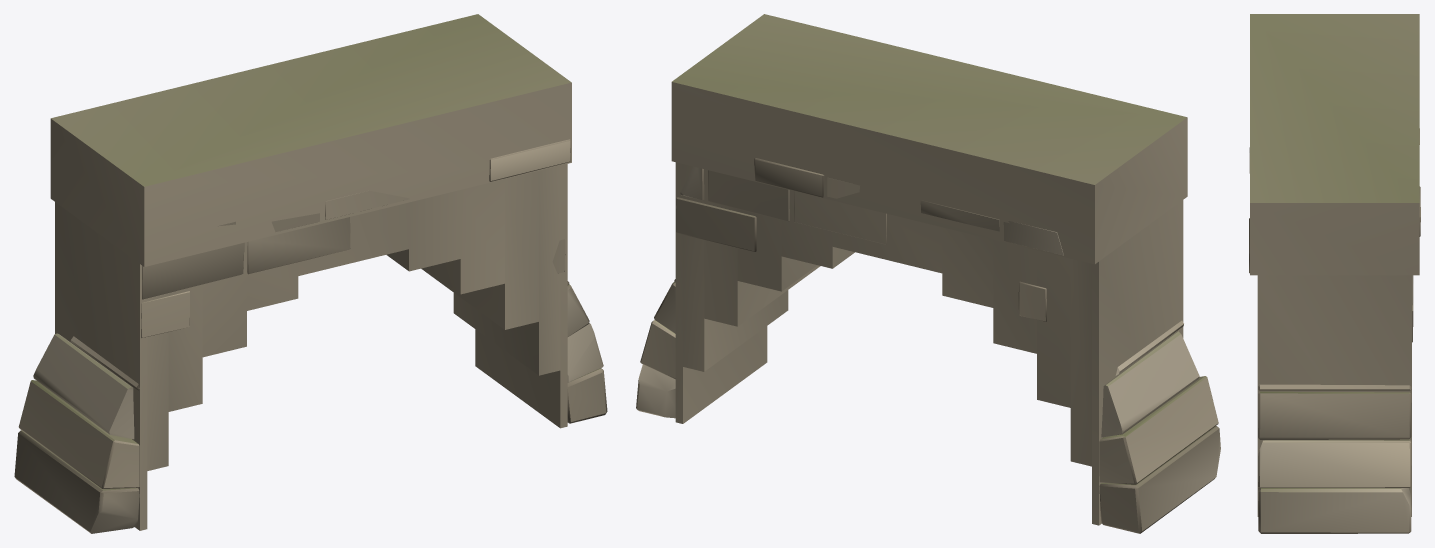
File: aqueduct_arch_b.glb
3 renders of one model, left to right at view 1: azimuth 30°, elevation 25°; view 2: azimuth 150°, elevation 25°; view 3: azimuth 270°, elevation 25°, orthographic. The views are drawn at different scales.
Parts seen in each view (by area): view 1: aqueduct_arch_b_far, aqueduct_arch_b; view 2: aqueduct_arch_b_far, aqueduct_arch_b; view 3: aqueduct_arch_b_far, aqueduct_arch_b.
Boxes of the visible parts, x1=… form: aqueduct_arch_b_far: x1=50, y1=14, x2=571, y2=530; aqueduct_arch_b: x1=14, y1=139, x2=607, y2=533; aqueduct_arch_b_far: x1=671, y1=14, x2=1187, y2=525; aqueduct_arch_b: x1=636, y1=158, x2=1220, y2=533; aqueduct_arch_b_far: x1=1250, y1=14, x2=1419, y2=516; aqueduct_arch_b: x1=1249, y1=128, x2=1420, y2=533.
Bounding box in the file's own units: 17.34 × 11.25 × 5.57.
